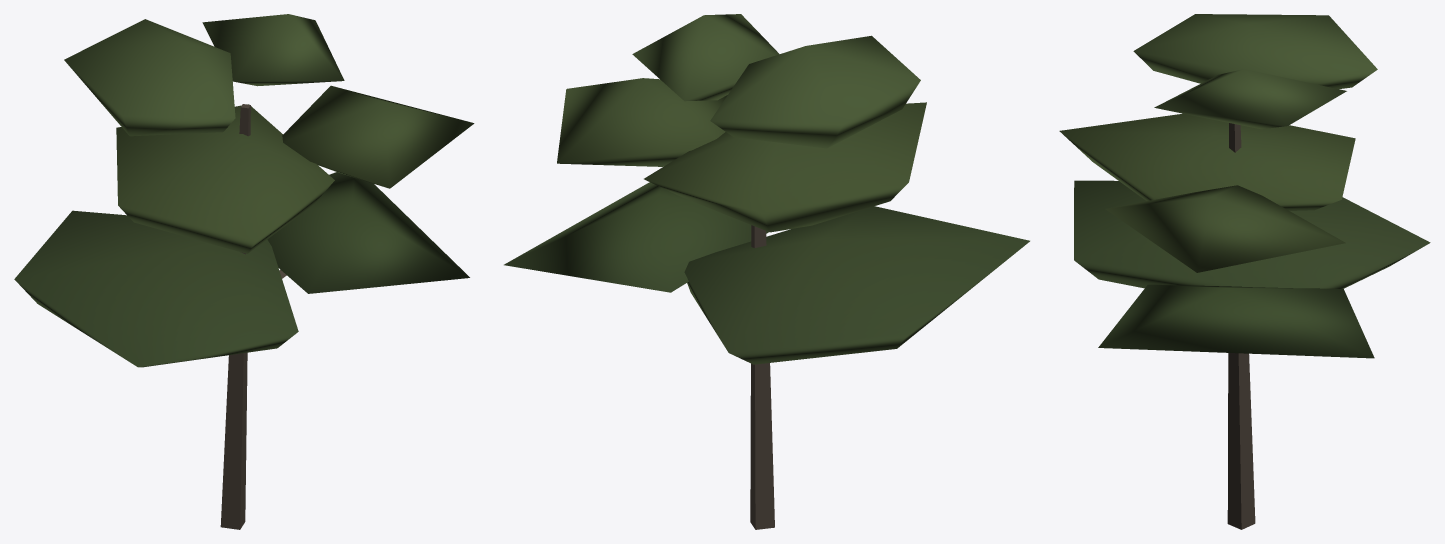
File: horizontal_tiered_lod0.glb
The picture shows the model from 3 angles, left to right: view 1: azimuth 30°, elevation 25°; view 2: azimuth 150°, elevation 25°; view 3: azimuth 270°, elevation 25°; orthographic projection. The views are drawn at different scales.
Parts seen in each view (by area): view 1: horizontal_tiered_LOD0; view 2: horizontal_tiered_LOD0; view 3: horizontal_tiered_LOD0.
Boxes of the visible parts, <box> form: horizontal_tiered_LOD0: <box>14,14,474,529</box>; horizontal_tiered_LOD0: <box>504,14,1029,529</box>; horizontal_tiered_LOD0: <box>1059,14,1430,529</box>.
Bounding box in the file's own units: 7.81 × 9.24 × 6.45.
